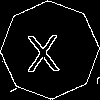X: (25, 25, 60, 73)
